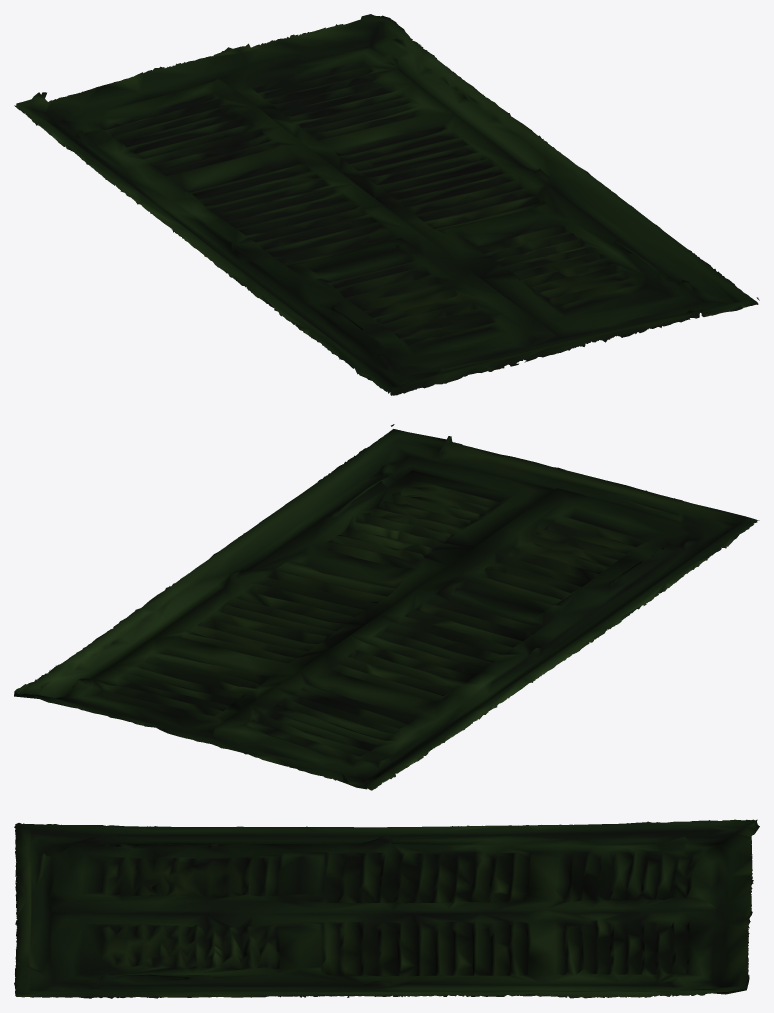
File: green shiyyer windows.fbx
3 views of the same model, one above another, from view 1: azimuth 30°, elevation 25°; view 2: azimuth 150°, elevation 25°; view 3: azimuth 270°, elevation 25° (orthographic). The views are drawn at different scales.
Parts seen in each view (by area): view 1: Model; view 2: Model; view 3: Model.
Boxes of the visible parts, x1,y1,x2,y2 form: Model: (14, 14, 759, 395); Model: (14, 424, 759, 790); Model: (14, 819, 759, 998).
Bounding box in the file's own units: 299 × 24.72 × 532.
